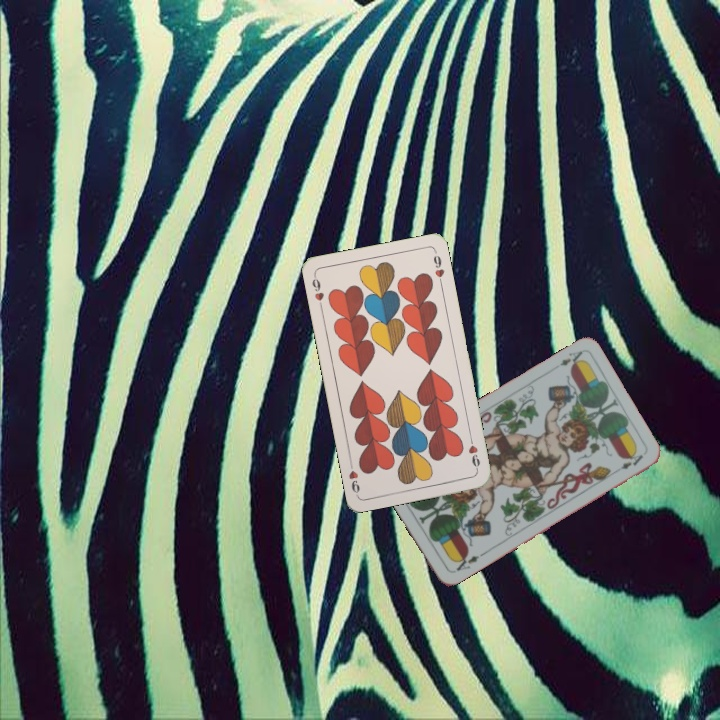EA: (450, 549, 486, 574), (556, 346, 585, 370)
H9: (464, 433, 483, 473), (308, 271, 326, 311)
